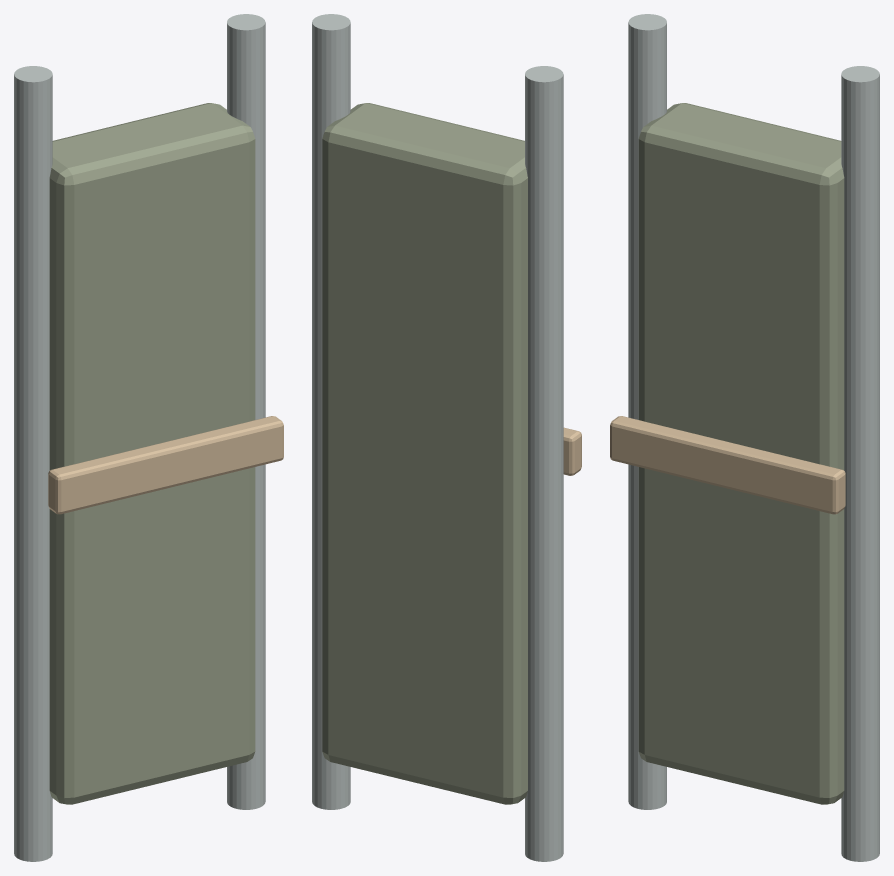
The picture shows the model from 3 angles, left to right: view 1: azimuth 30°, elevation 25°; view 2: azimuth 150°, elevation 25°; view 3: azimuth 330°, elevation 25°; orthographic projection.
Parts seen in each view (by area): view 1: folded canvas, folded pole, folded pole.001, restraint; view 2: folded canvas, folded pole, folded pole.001, restraint; view 3: folded canvas, folded pole.001, folded pole, restraint.
Part boxes in pixels (left/top/right/bottom): folded canvas: left=49, top=103, right=255, bottom=804; folded pole: left=14, top=66, right=52, bottom=861; folded pole.001: left=227, top=14, right=265, bottom=809; restraint: left=48, top=416, right=283, bottom=514; folded canvas: left=322, top=103, right=527, bottom=804; folded pole: left=525, top=66, right=563, bottom=861; folded pole.001: left=312, top=14, right=350, bottom=809; restraint: left=563, top=427, right=581, bottom=475; folded canvas: left=638, top=103, right=844, bottom=804; folded pole.001: left=841, top=66, right=879, bottom=861; folded pole: left=628, top=14, right=666, bottom=809; restraint: left=610, top=416, right=845, bottom=514.
Bounding box in the file's own units: 0.324 × 0.98 × 0.1225.
